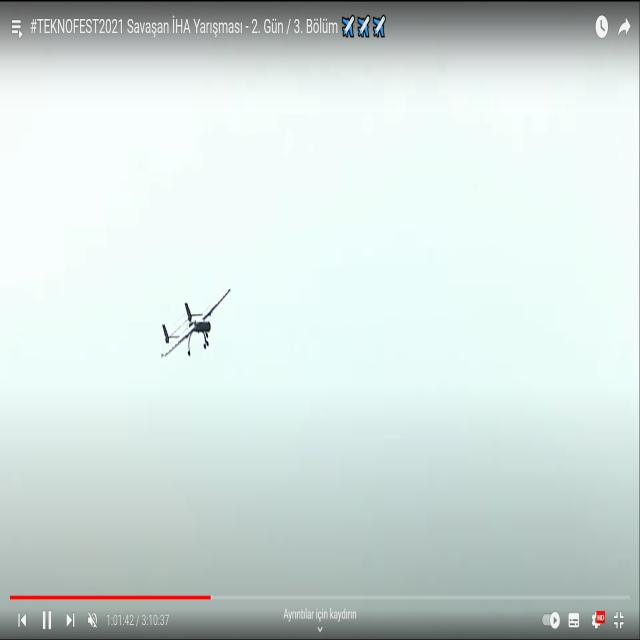iha: (193, 323, 196, 326)
